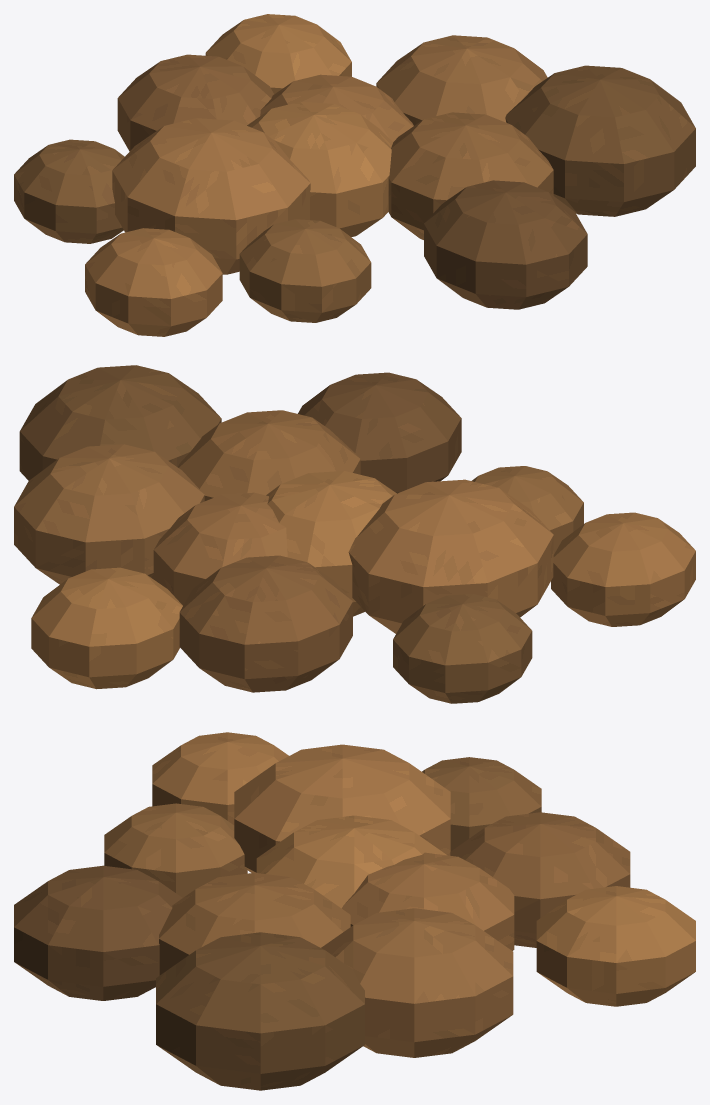
Rendered from wheat.glb.
The picture shows the model from 3 angles, top to bottom: view 1: azimuth 30°, elevation 25°; view 2: azimuth 150°, elevation 25°; view 3: azimuth 270°, elevation 25°; orthographic projection. The views are drawn at different scales.
Visible parts, largest first — view 1: block_grain 11, block_grain 2, block_grain 8, block_grain 3, block_grain 10, block_grain 0, block_grain 5, block_grain 6, block_grain 4, block_grain 7, block_grain 9, block_grain 1; view 2: block_grain 2, block_grain 4, block_grain 6, block_grain 9, block_grain 11, block_grain 10, block_grain 8, block_grain 7, block_grain 3, block_grain 0, block_grain 1, block_grain 5; view 3: block_grain 11, block_grain 6, block_grain 8, block_grain 2, block_grain 9, block_grain 4, block_grain 3, block_grain 5, block_grain 0, block_grain 1, block_grain 10, block_grain 7.
Boxes of the visible parts, bbox=[...] form: block_grain 11: bbox=[505, 65, 695, 216]; block_grain 2: bbox=[112, 118, 310, 274]; block_grain 8: bbox=[424, 180, 587, 309]; block_grain 3: bbox=[388, 112, 553, 239]; block_grain 10: bbox=[85, 228, 222, 336]; block_grain 0: bbox=[247, 101, 392, 236]; block_grain 5: bbox=[239, 219, 371, 322]; block_grain 6: bbox=[376, 35, 547, 125]; block_grain 4: bbox=[117, 54, 274, 151]; block_grain 7: bbox=[14, 139, 124, 243]; block_grain 9: bbox=[205, 14, 351, 93]; block_grain 1: bbox=[260, 74, 413, 141]; block_grain 2: bbox=[348, 479, 553, 633]; block_grain 4: bbox=[179, 555, 352, 692]; block_grain 6: bbox=[14, 444, 204, 584]; block_grain 9: bbox=[31, 567, 182, 689]; block_grain 11: bbox=[19, 365, 221, 480]; block_grain 10: bbox=[551, 512, 695, 626]; block_grain 8: bbox=[298, 372, 461, 493]; block_grain 7: bbox=[393, 594, 532, 703]; block_grain 3: bbox=[177, 410, 360, 500]; block_grain 0: bbox=[266, 471, 396, 616]; block_grain 1: bbox=[153, 492, 287, 605]; block_grain 5: bbox=[472, 466, 583, 554]; block_grain 11: bbox=[156, 932, 364, 1090]; block_grain 6: bbox=[321, 908, 513, 1057]; block_grain 8: bbox=[14, 865, 182, 1000]; block_grain 2: bbox=[234, 744, 450, 872]; block_grain 9: bbox=[536, 886, 695, 1006]; block_grain 4: bbox=[450, 812, 630, 947]; block_grain 3: bbox=[159, 872, 350, 975]; block_grain 5: bbox=[104, 803, 247, 897]; block_grain 0: bbox=[256, 815, 446, 908]; block_grain 1: bbox=[342, 852, 514, 950]; block_grain 10: bbox=[152, 732, 288, 824]; block_grain 7: bbox=[422, 757, 541, 850].
Size of the model in its own units: 0.114 by 0.0231 by 0.1049.
1 material, 1 textured.
